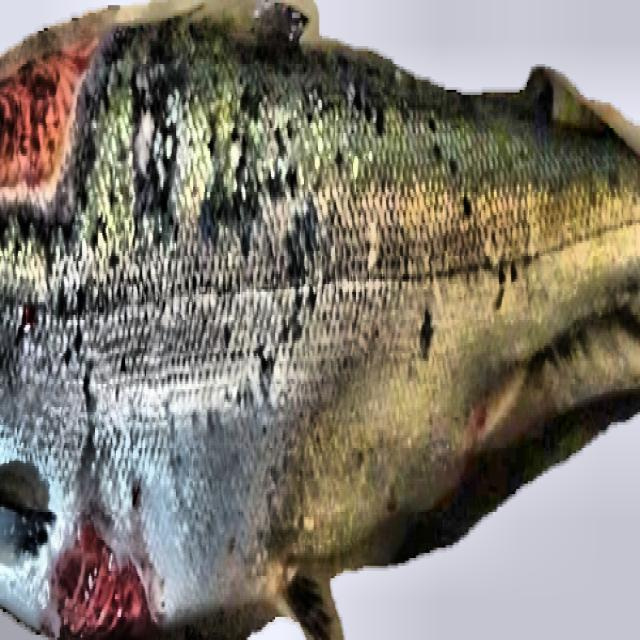mild_red: (0, 0, 639, 630)
wound: (0, 32, 114, 204), (54, 516, 165, 637)
